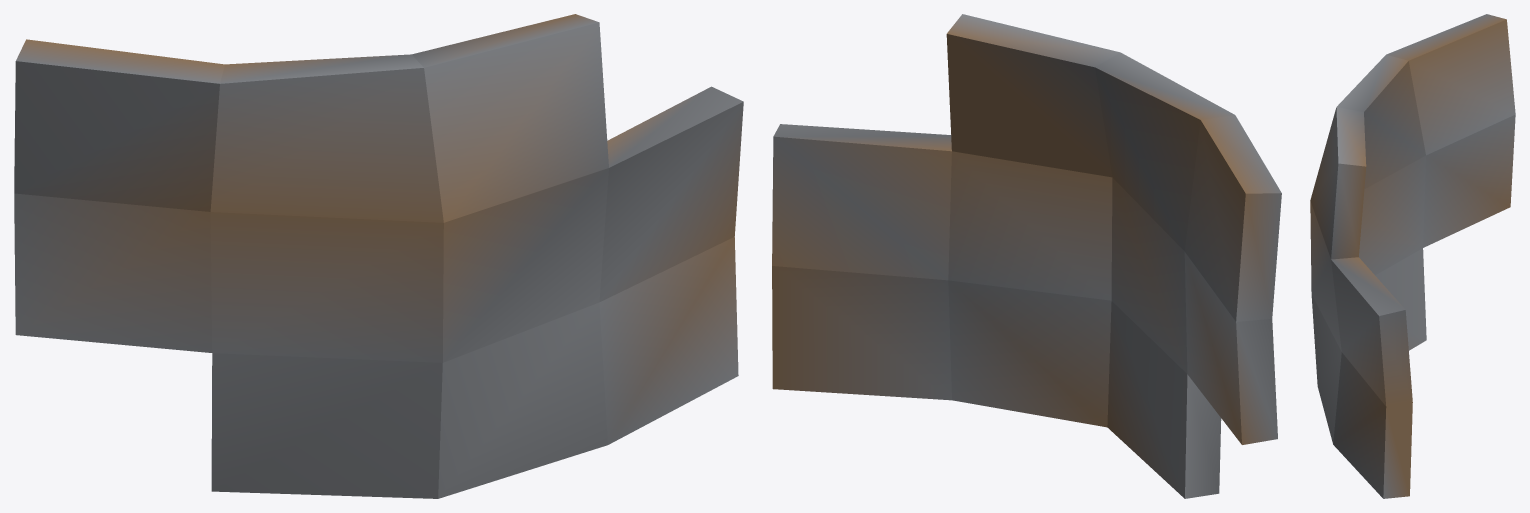
The model's file is wreck.glb.
3 renders of one model, left to right at view 1: azimuth 30°, elevation 25°; view 2: azimuth 150°, elevation 25°; view 3: azimuth 270°, elevation 25°, orthographic. The views are drawn at different scales.
Visible parts, largest first — view 1: wreck; view 2: wreck; view 3: wreck.
Part boxes in pixels (box(x1,y1,x2,y2)): wreck: box(14, 14, 743, 498); wreck: box(772, 14, 1281, 498); wreck: box(1310, 14, 1515, 498).
Size of the model in its own units: 1.55 by 0.9692 by 0.642.
